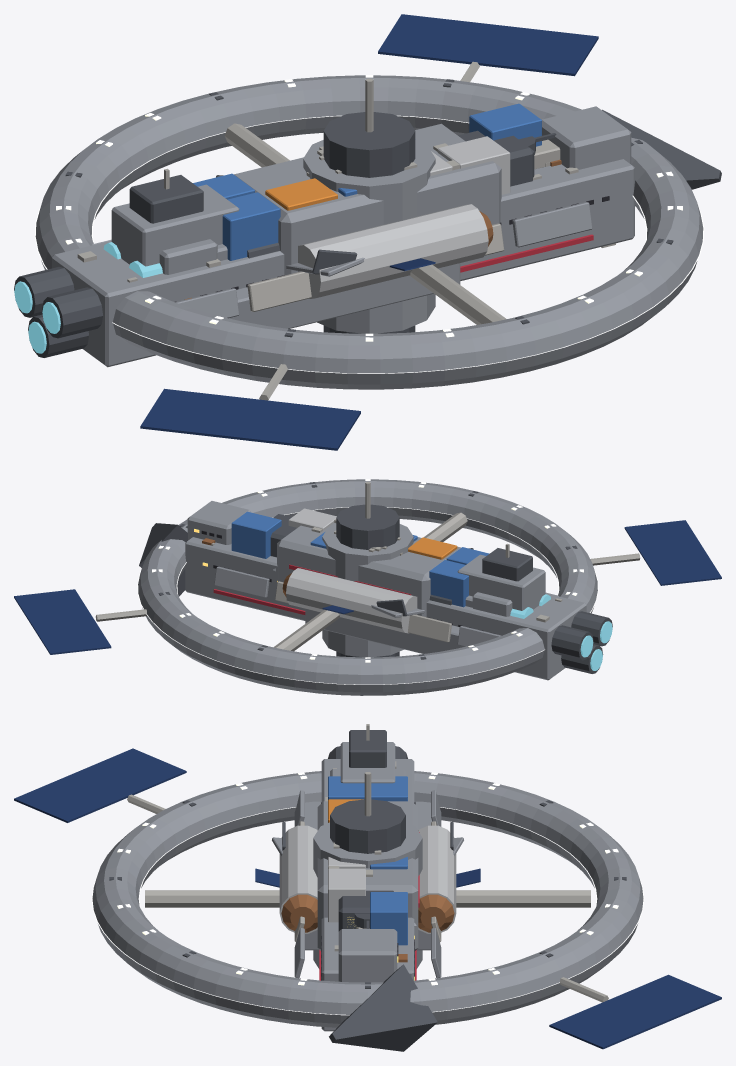
The model's file is salvage.glb.
The picture shows the model from 3 angles, top to bottom: view 1: azimuth 30°, elevation 25°; view 2: azimuth 150°, elevation 25°; view 3: azimuth 270°, elevation 25°; orthographic projection. The views are drawn at different scales.
Visible parts, largest first — view 1: Station, Dreadnought, Hauler, Freighter, Corvette; view 2: Station, Dreadnought, Hauler, Freighter, Corvette; view 3: Station, Dreadnought, Hauler, Freighter, Probe.
Part boxes in pixels (box(x1,y1,x2,y2)): Station: box(34, 14, 704, 450); Dreadnought: box(14, 109, 721, 367); Hauler: box(234, 123, 534, 298); Freighter: box(103, 103, 631, 277); Corvette: box(216, 175, 364, 276); Station: box(14, 479, 721, 695); Dreadnought: box(139, 523, 612, 680); Hauler: box(270, 514, 460, 633); Freighter: box(187, 501, 550, 618); Corvette: box(273, 548, 473, 617); Station: box(14, 748, 721, 1049); Dreadnought: box(294, 724, 441, 1051); Hauler: box(279, 801, 456, 950); Freighter: box(328, 769, 407, 982); Probe: box(255, 868, 480, 887).
Size of the model in its own units: 16.83 by 5.5 by 16.83.
